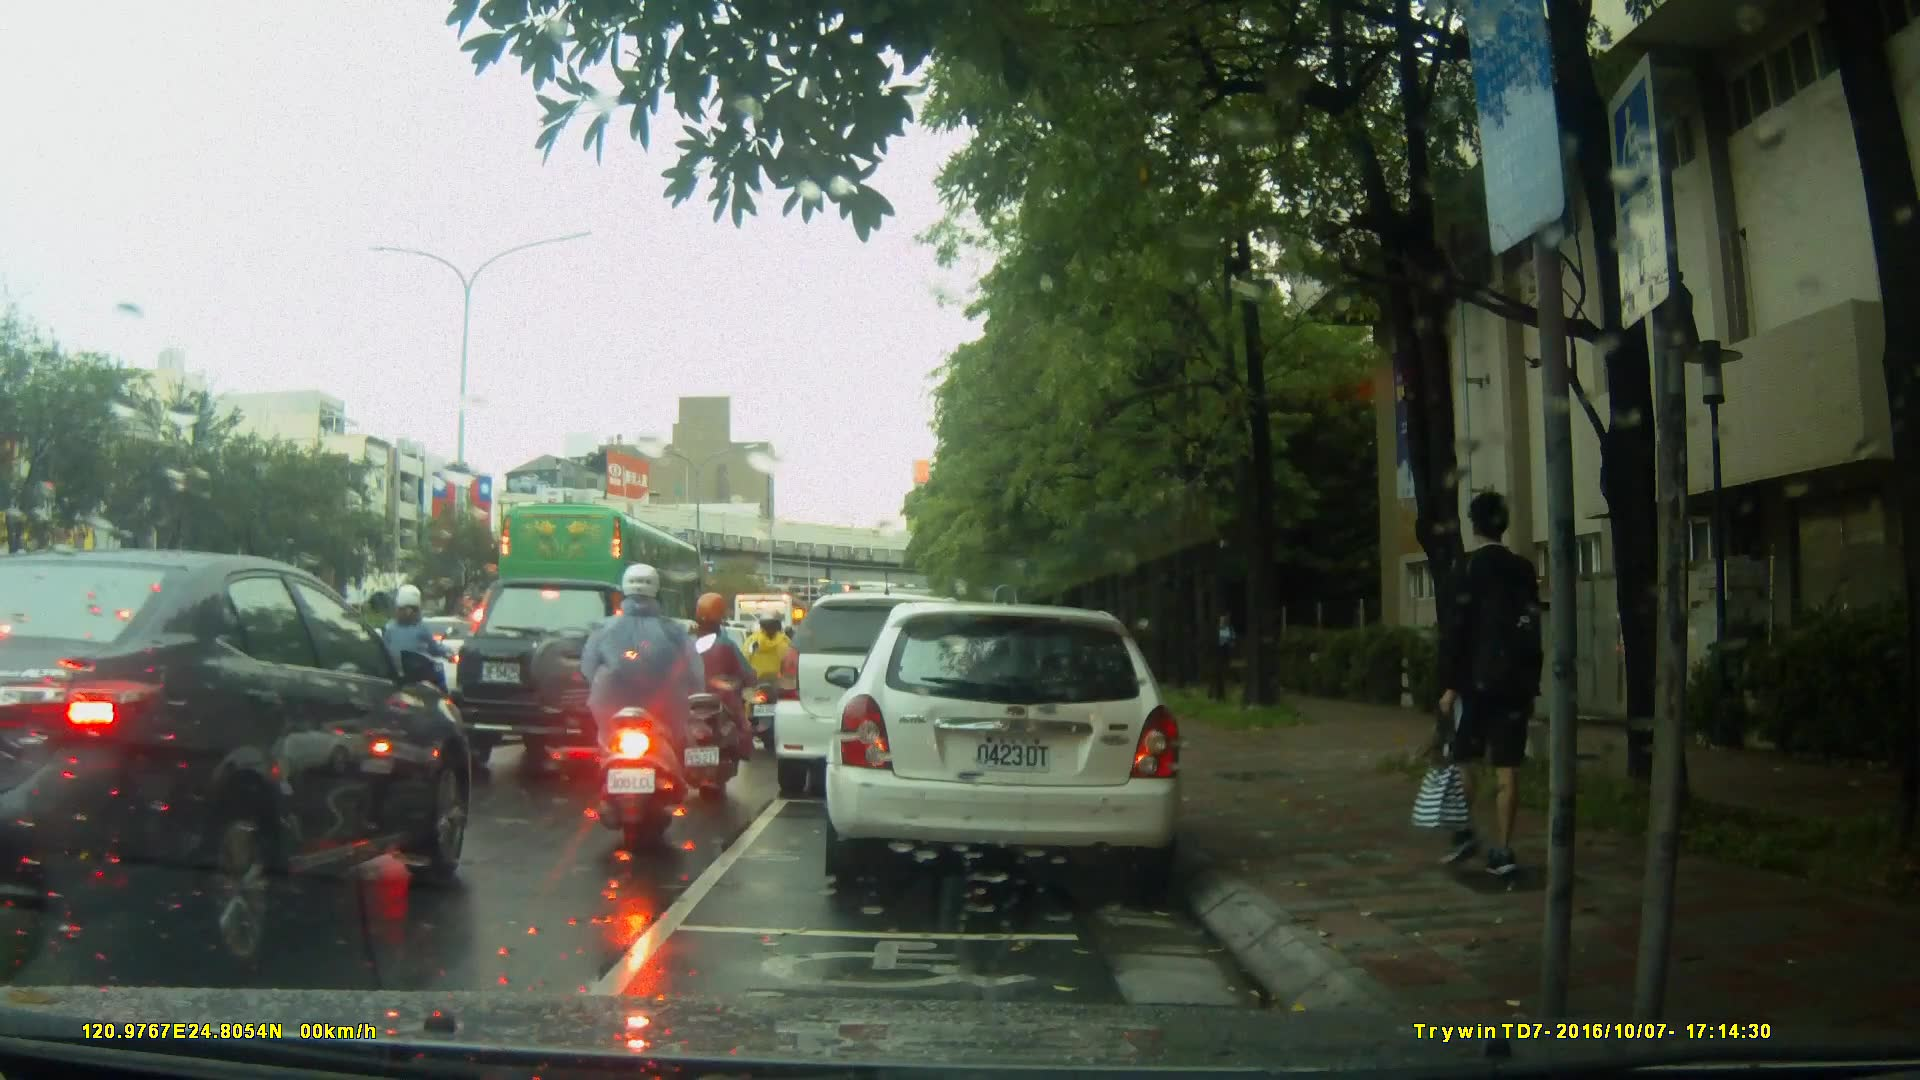pedestrian: (1406, 493, 1568, 877)
rider: (579, 567, 717, 846), (366, 579, 459, 753), (668, 595, 745, 805), (737, 606, 802, 740)
vehicle: (1, 547, 477, 981), (831, 592, 1196, 897), (770, 592, 999, 799), (452, 576, 683, 775), (494, 502, 705, 657)
